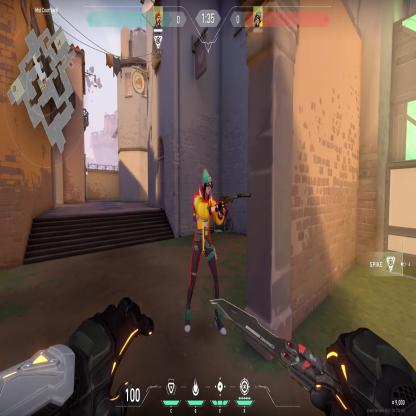enemy: (185, 166, 229, 344)
